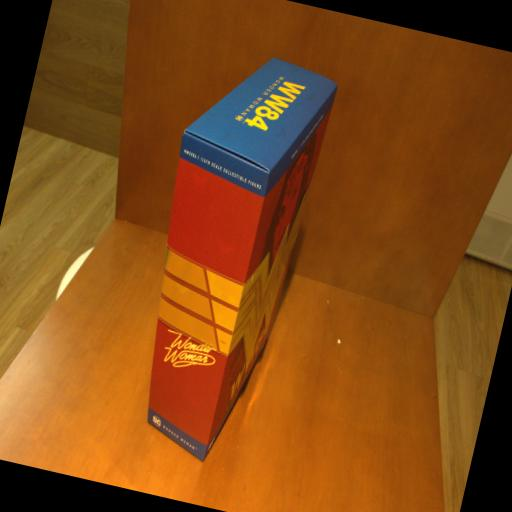WonderWoman: (112, 40, 342, 473)
